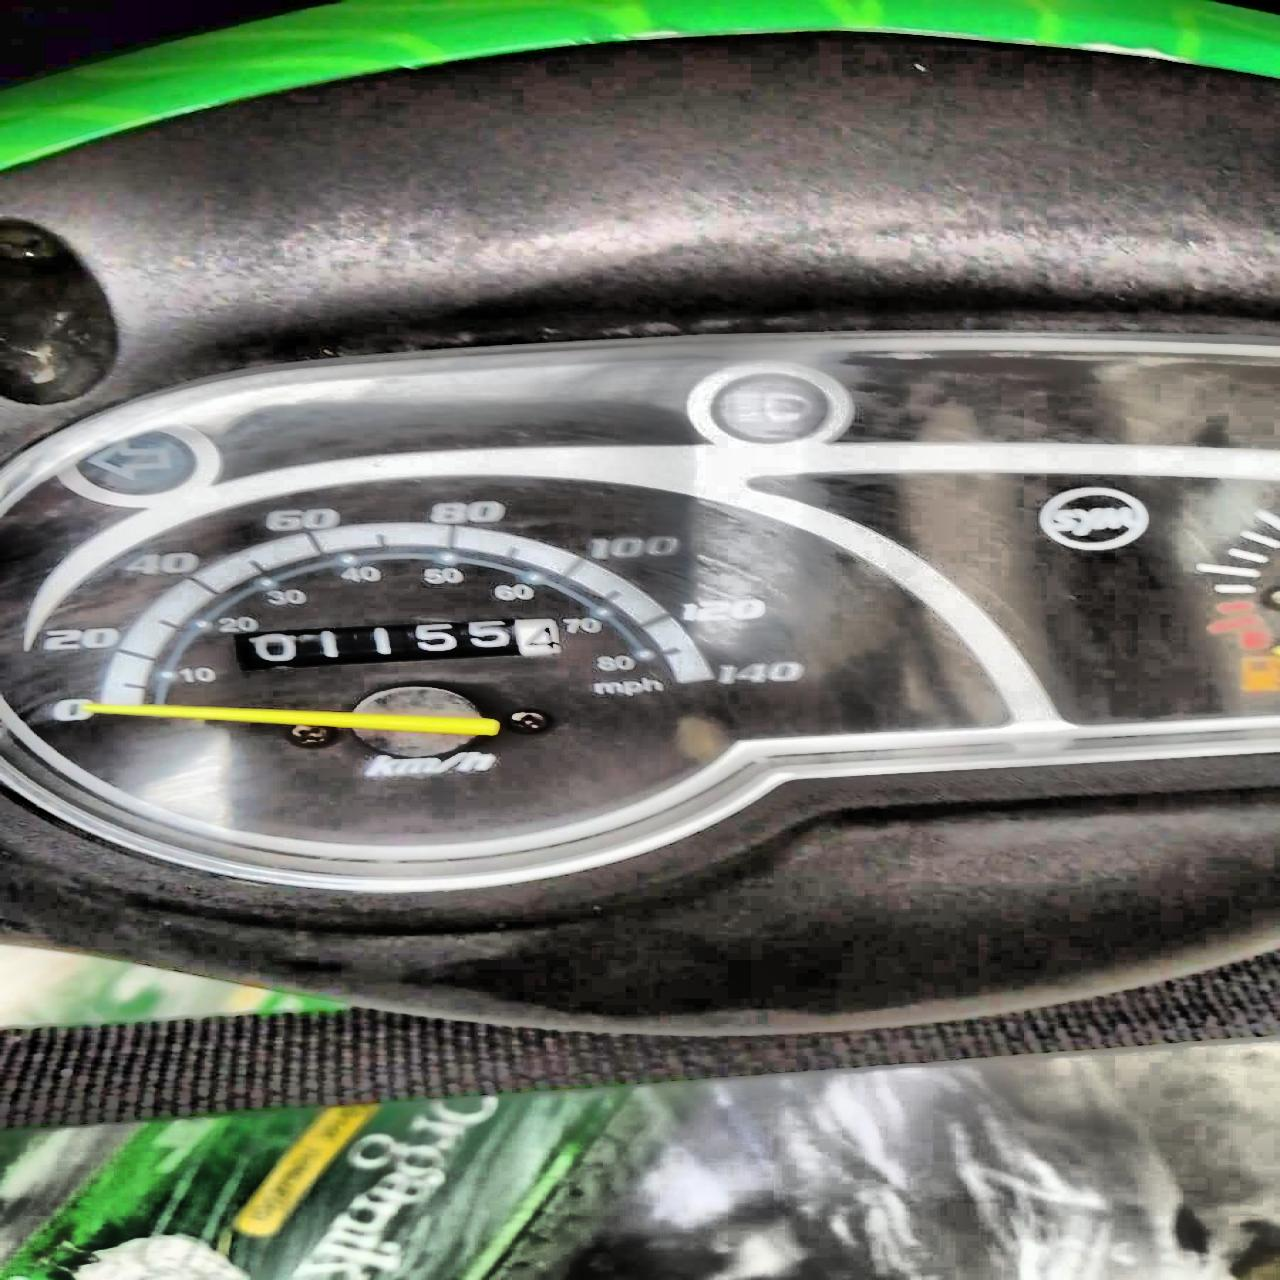0: (250, 632, 295, 662), (237, 615, 258, 631)
1: (366, 626, 395, 656), (314, 628, 342, 658)
2: (226, 617, 234, 633)
4: (519, 625, 559, 651)
5: (409, 621, 459, 653), (463, 619, 511, 648)
odometer: (226, 613, 567, 674)
